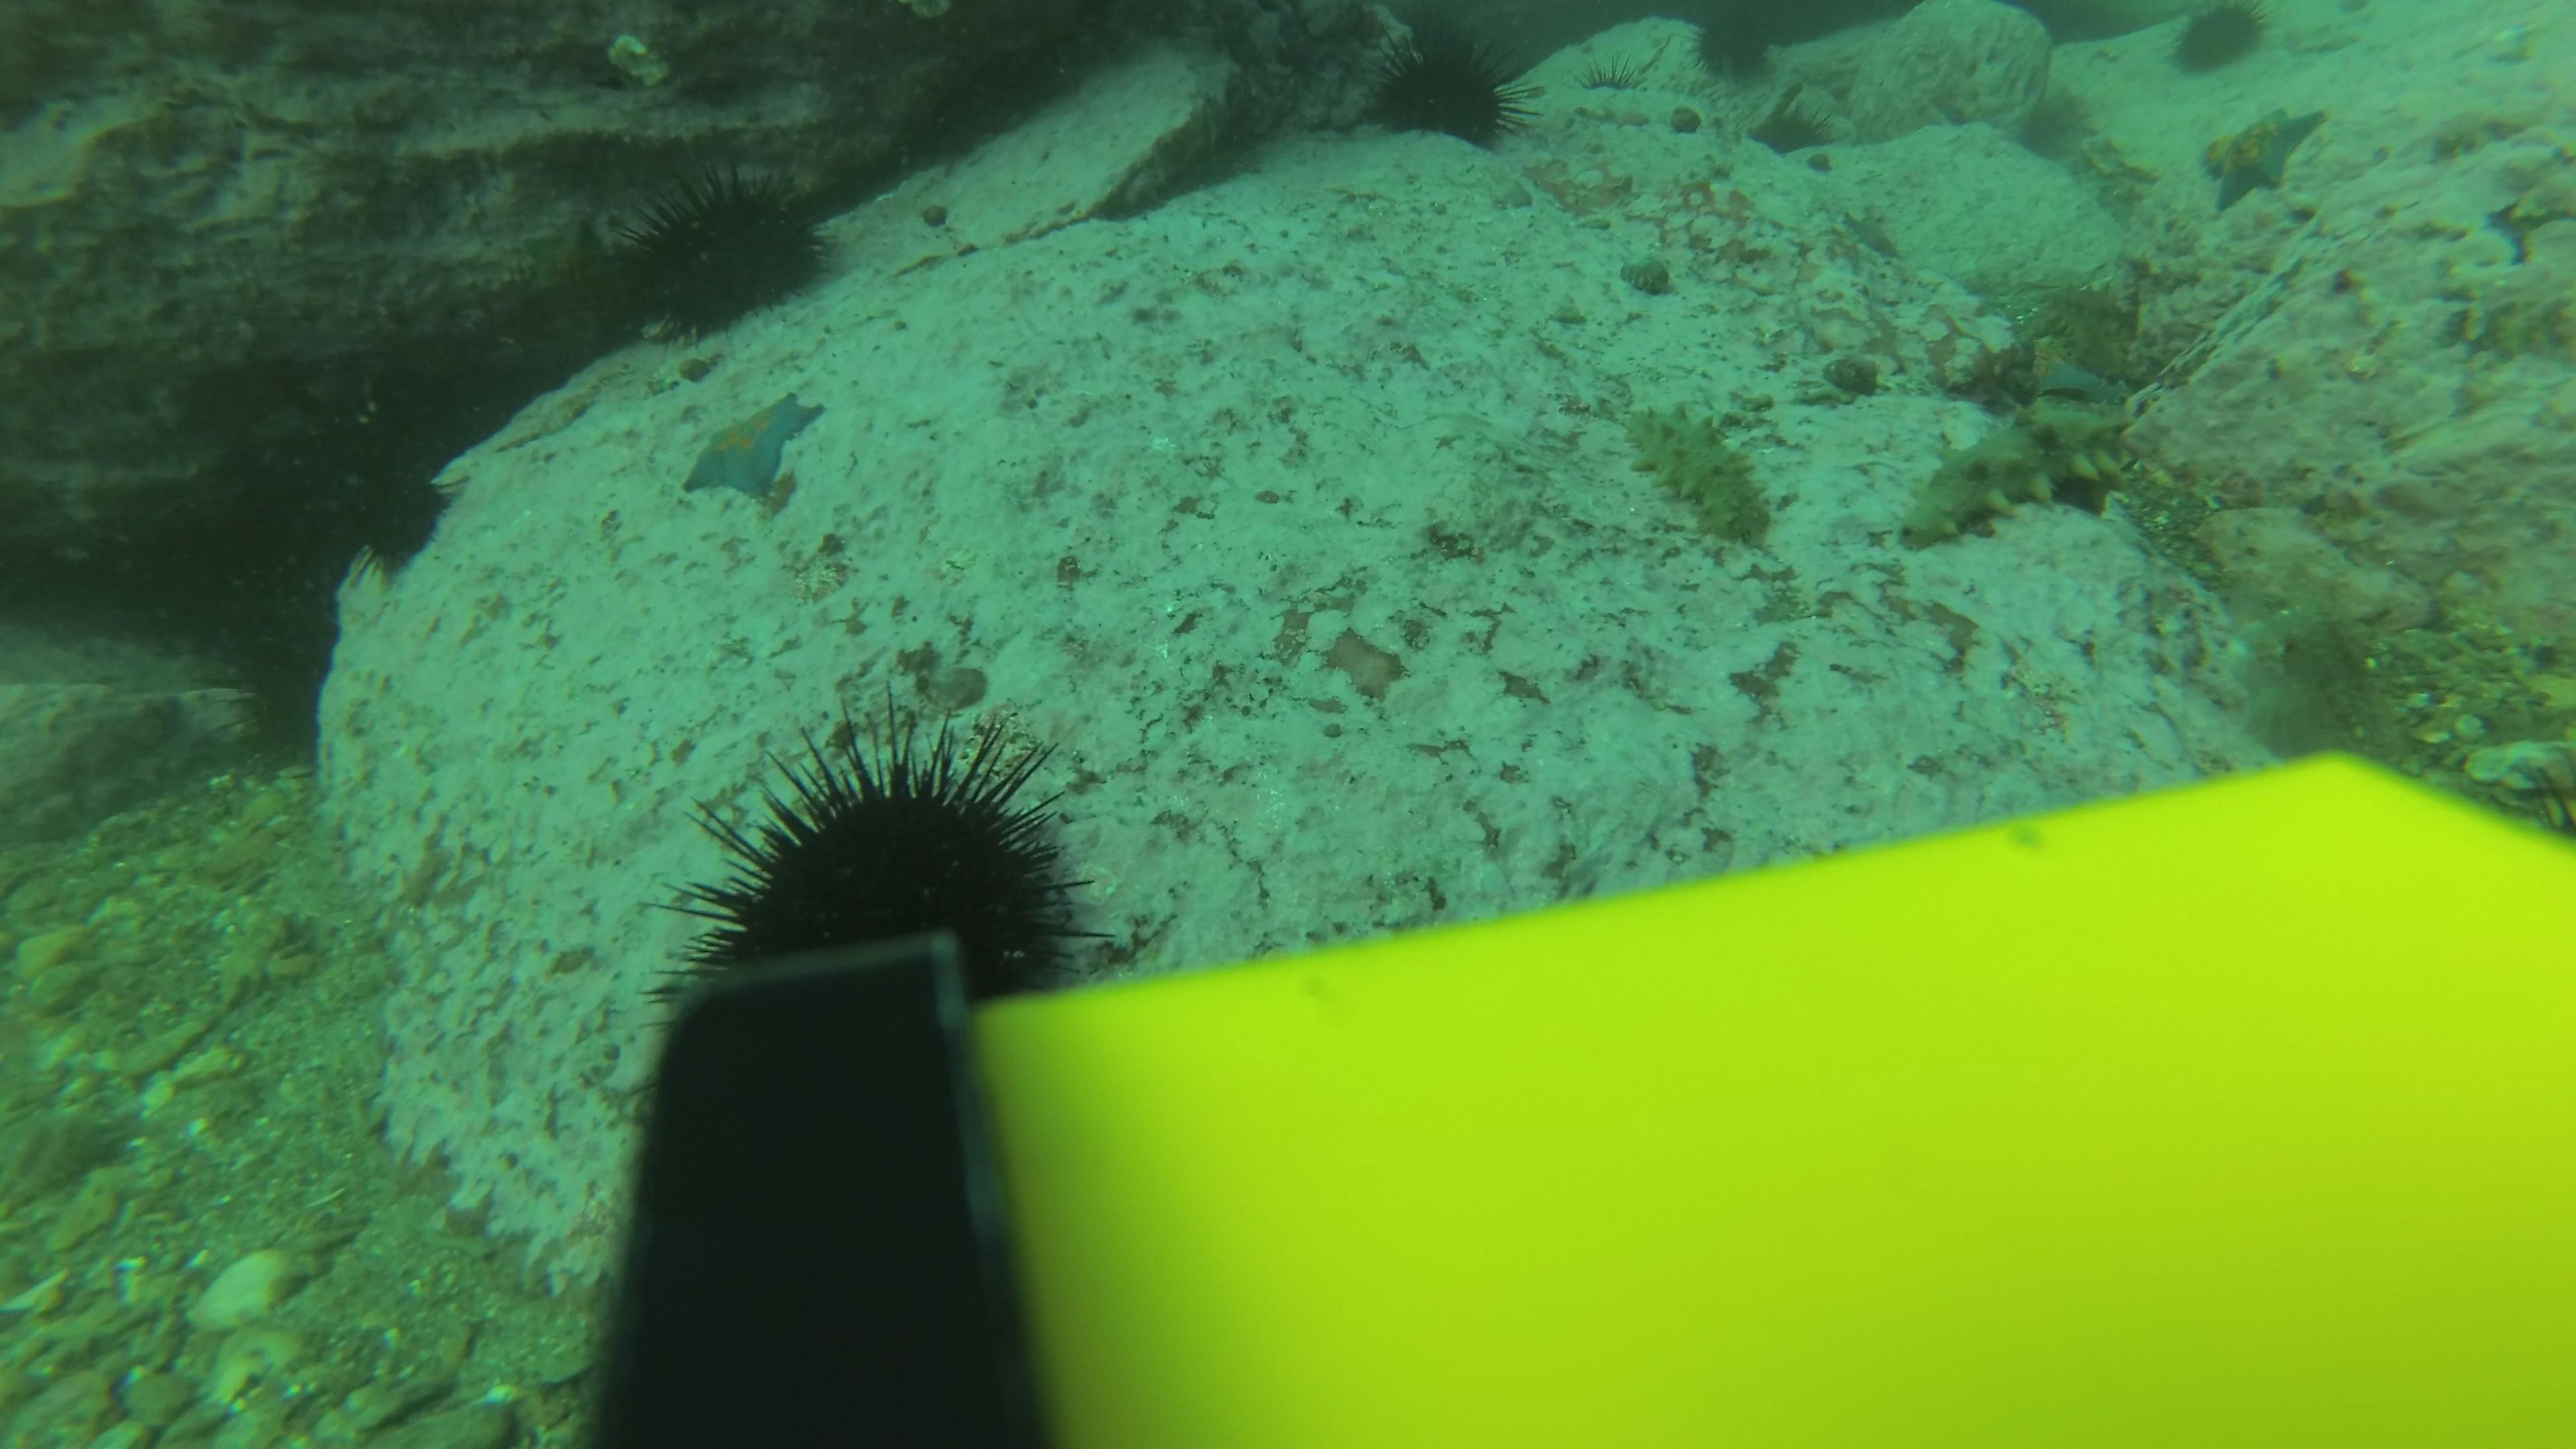urchin: (630, 715, 1127, 1030), (617, 184, 862, 361), (1352, 28, 1557, 147), (2150, 4, 2273, 74), (1683, 2, 1792, 81)
